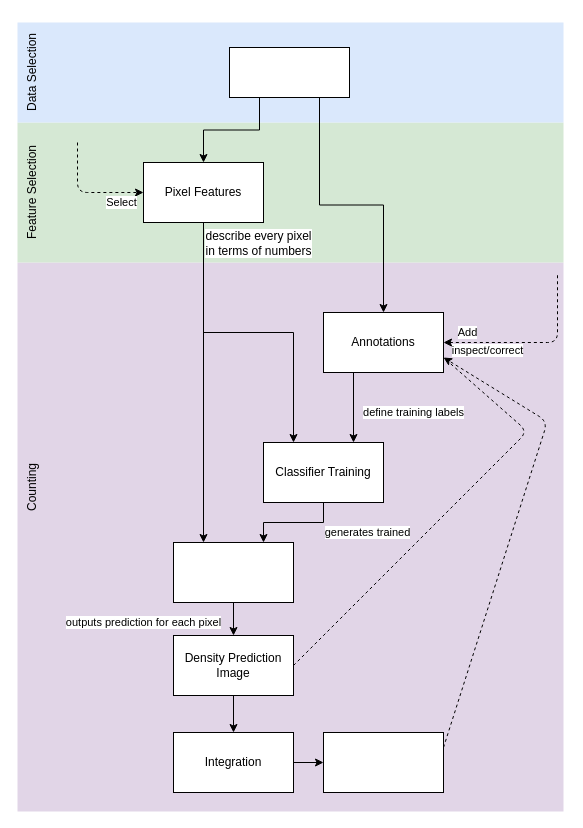
The diagram is 583 pixels wide and 828 high, and some of its shapes have lost their labels. Each missing label, with the centre of its shape:
"Classifier" belongs at point 233,572.
"Counts" belongs at point 383,762.
"Image/raw data" belongs at point 289,72.
